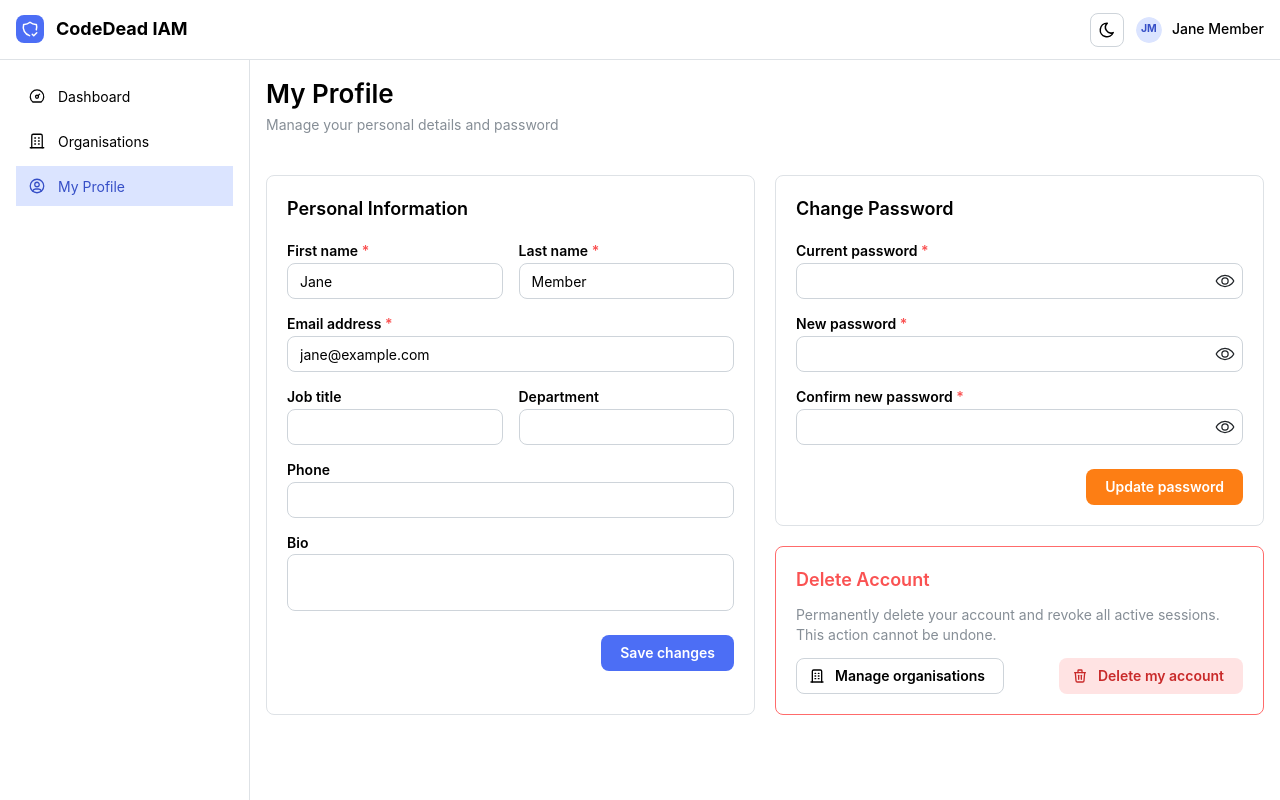
it: ProfilePage account deletion › allows a user with profile.delete to confirm password and permanently delete their account
Click the button "Delete my account".
click(1151, 676)  # box [1059, 658, 1243, 694]
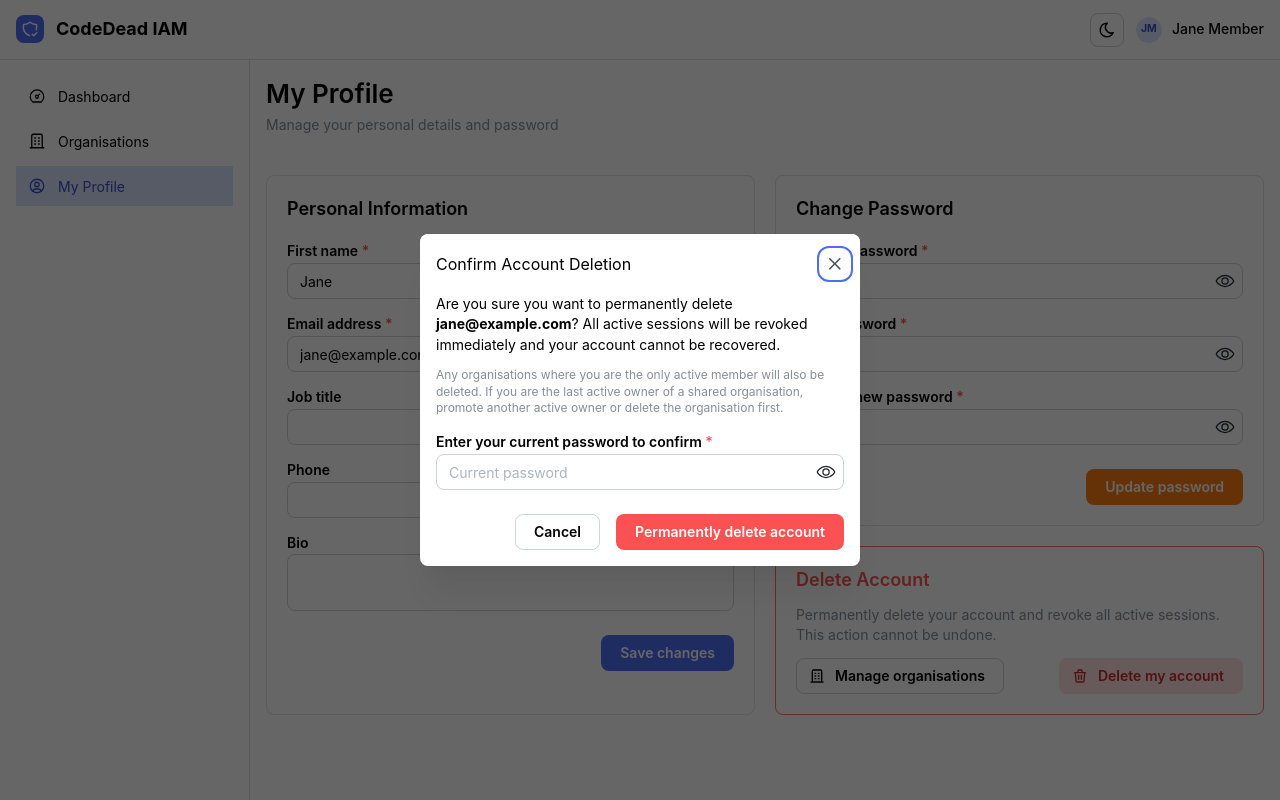
expect the heading "Confirm Account Deletion" is shown: met, box [436, 256, 631, 272]
Type "StrongPass123!" into the password field labelled "Enter your current password to confirm *".
click(640, 472); type("StrongPass123!")  # box [437, 455, 843, 489]
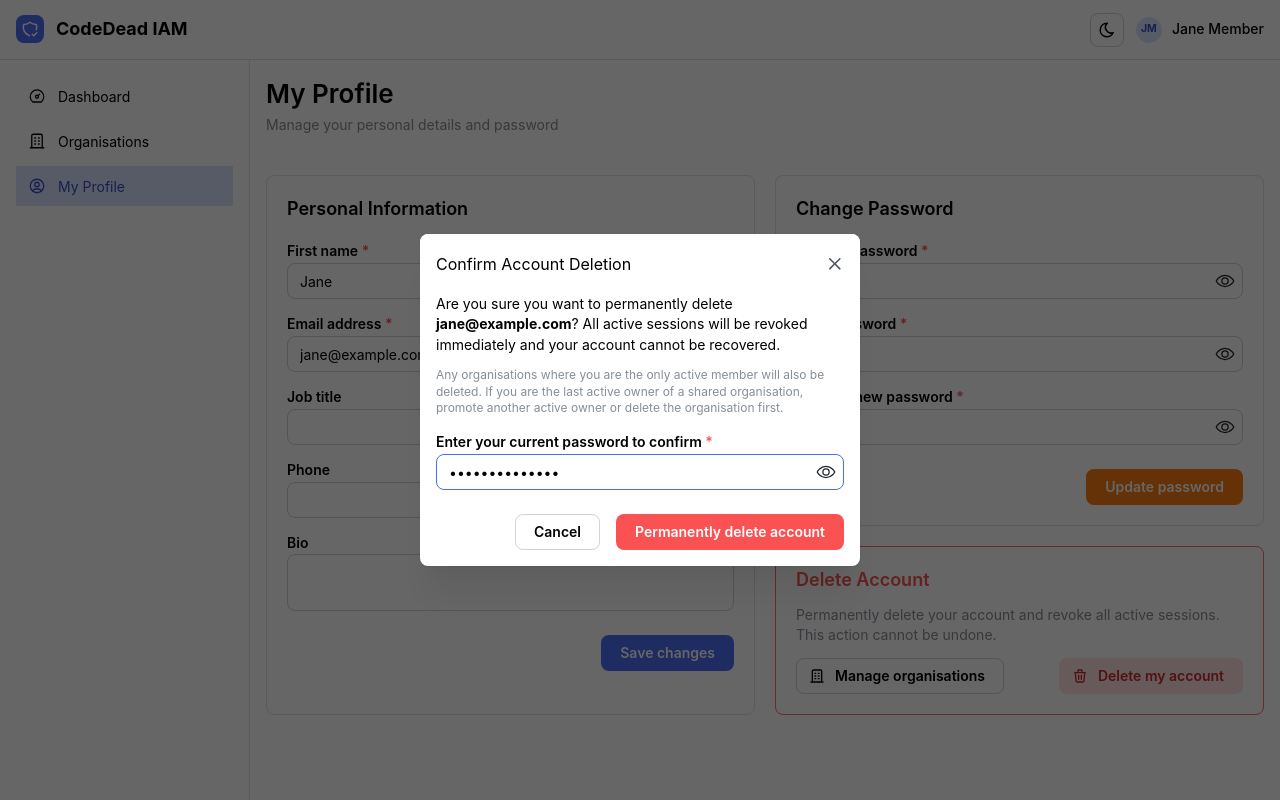
Click the button "Permanently delete account".
click(730, 532)  # box [616, 514, 844, 550]
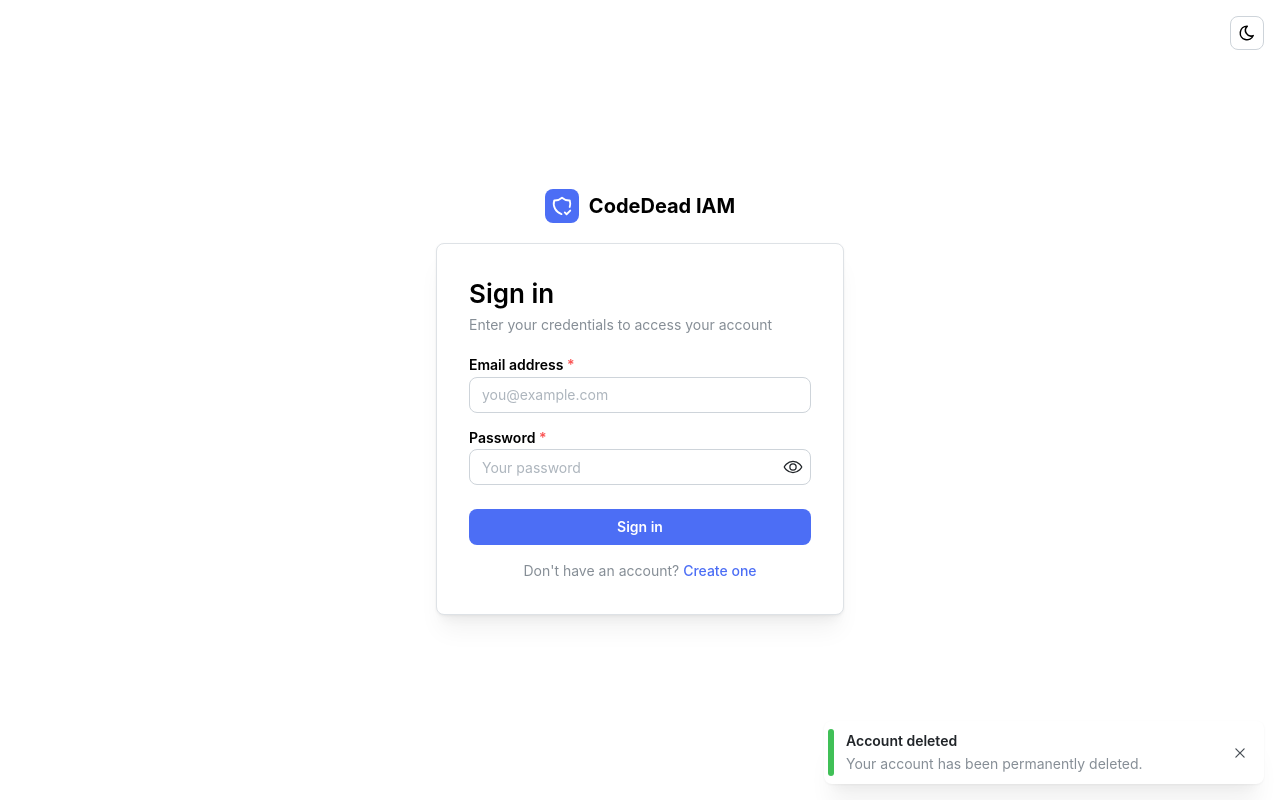
expect the heading "Sign in" is shown: met, box [469, 278, 554, 309]
